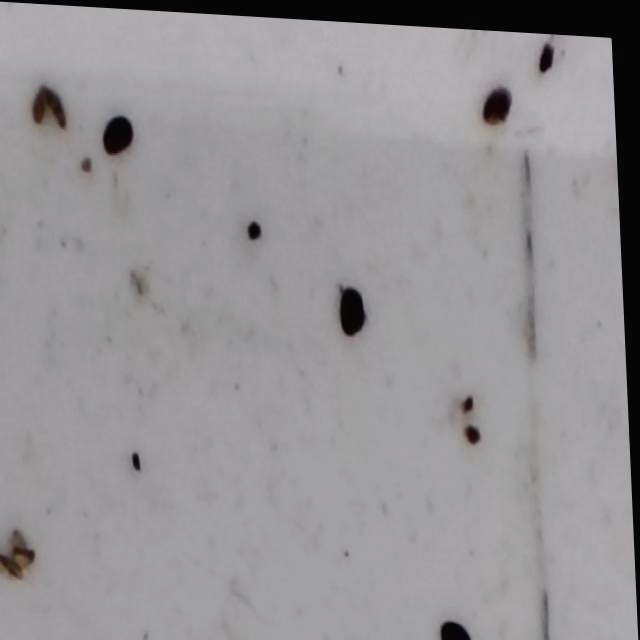varroa: (339, 277, 373, 336), (484, 76, 523, 121), (106, 108, 142, 156)
